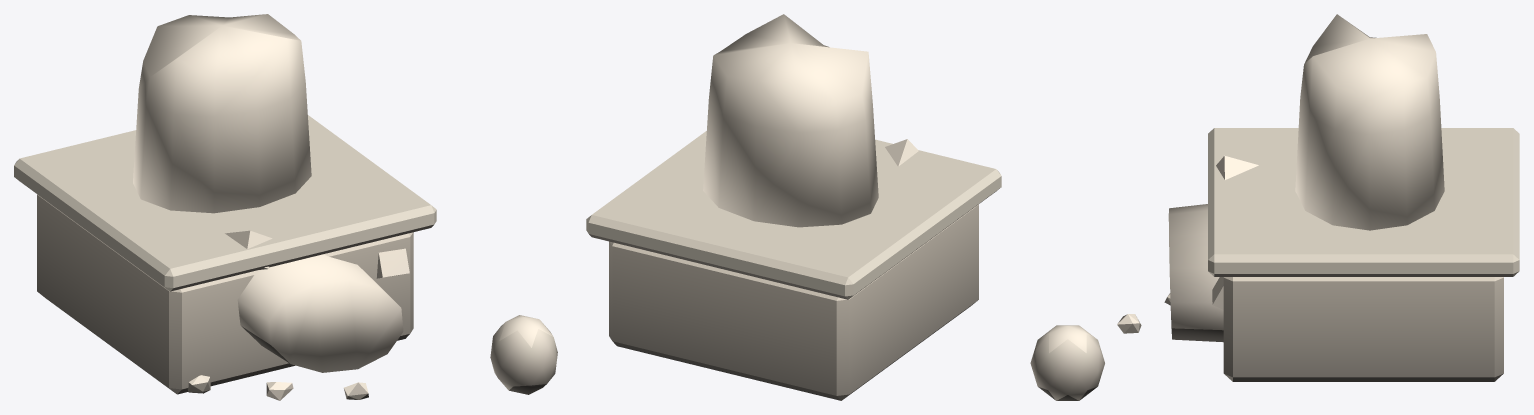
File: SM_VKI_Prop_Statue_Broken.fbx
The picture shows the model from 3 angles, left to right: view 1: azimuth 30°, elevation 25°; view 2: azimuth 150°, elevation 25°; view 3: azimuth 270°, elevation 25°; orthographic projection.
Parts seen in each view (by area): view 1: SM_VKI_Prop_Statue_Broken.001; view 2: SM_VKI_Prop_Statue_Broken.001; view 3: SM_VKI_Prop_Statue_Broken.001.
Part boxes in pixels (box(x1,y1,x2,y2)): SM_VKI_Prop_Statue_Broken.001: box(14, 14, 557, 400); SM_VKI_Prop_Statue_Broken.001: box(586, 14, 1001, 400); SM_VKI_Prop_Statue_Broken.001: box(1030, 14, 1519, 400).
Bounding box in the file's own units: 1.15 × 1.03 × 1.57.
